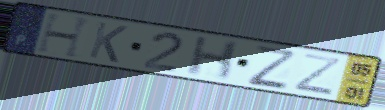2: (141, 31, 187, 75)
H: (34, 11, 95, 60), (184, 35, 244, 82)
K: (85, 20, 130, 66)
Z: (291, 51, 344, 98), (246, 43, 297, 90)
